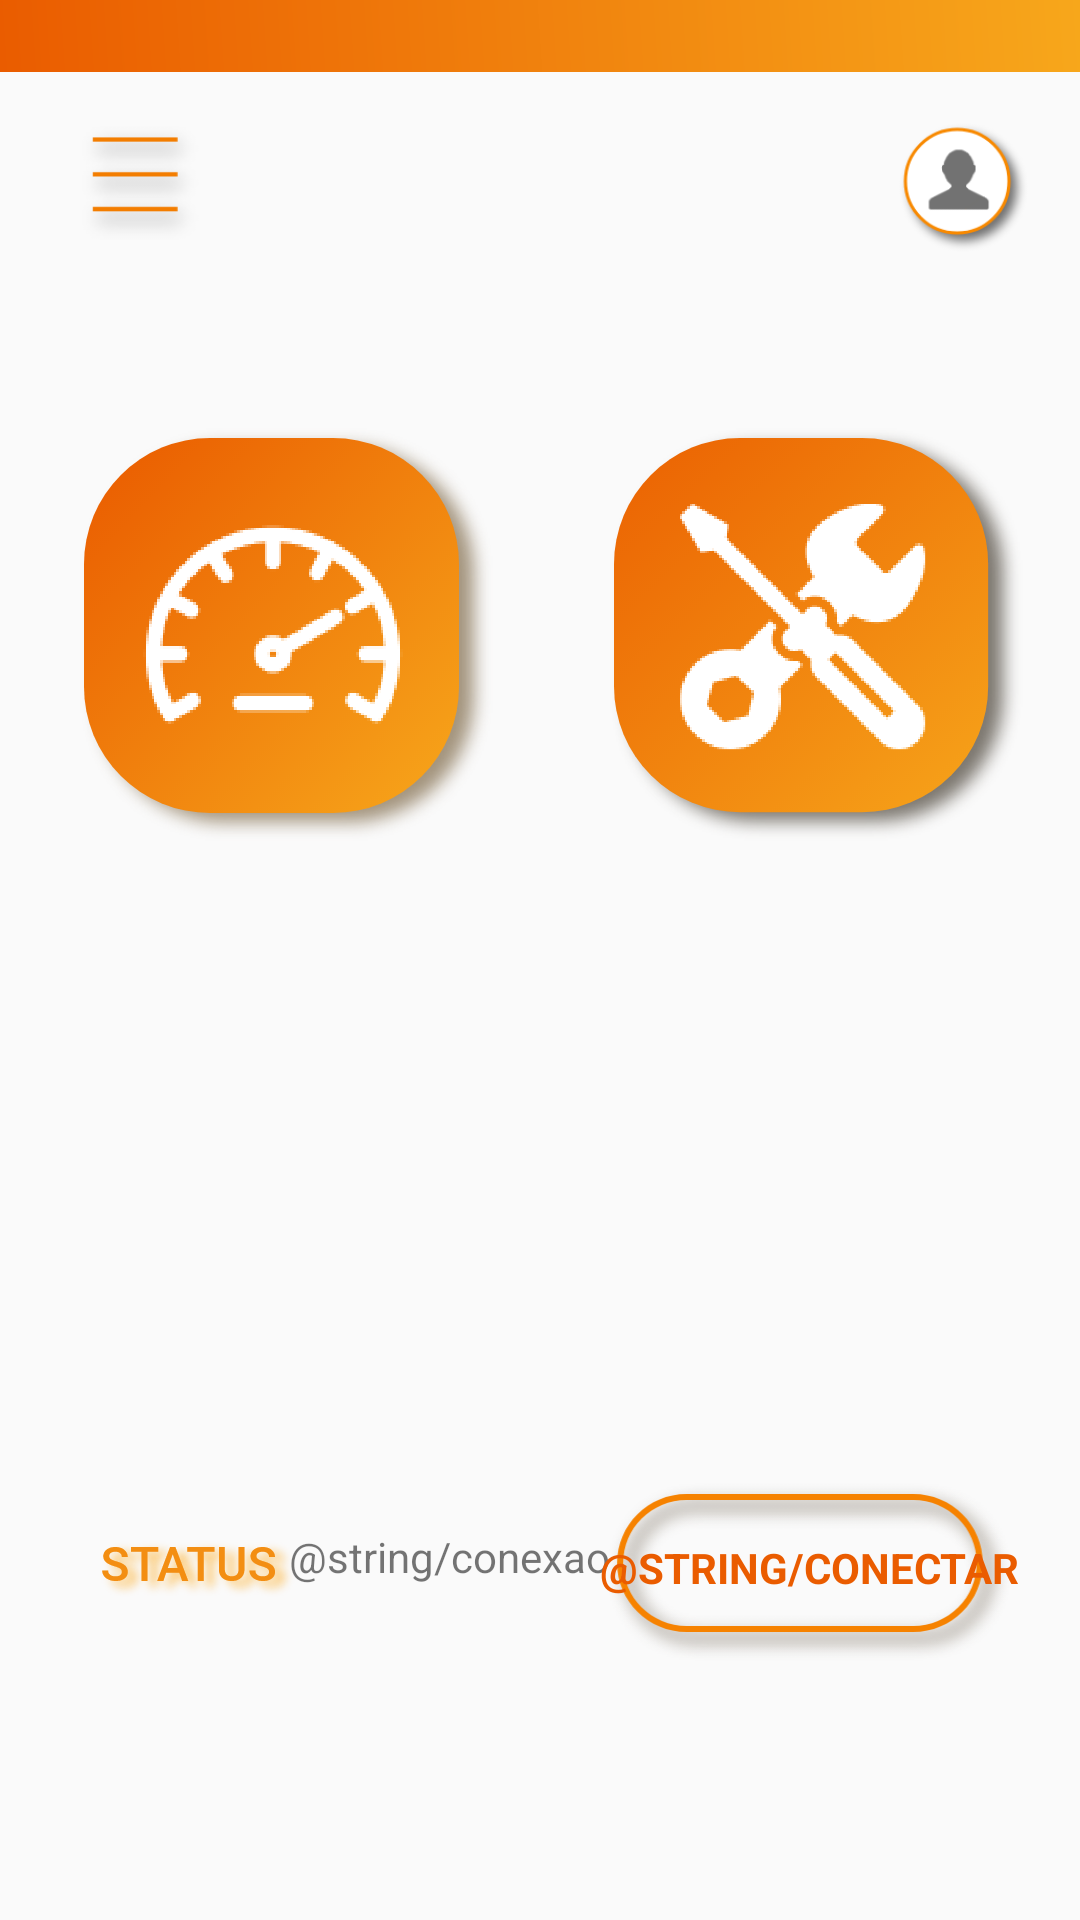

Screen size 1080px×1920px. Icon name, then its box in pixels as region(x1, y1, x2, y2):
menu: region(92, 135, 184, 230)
profile: region(903, 127, 1021, 245)
